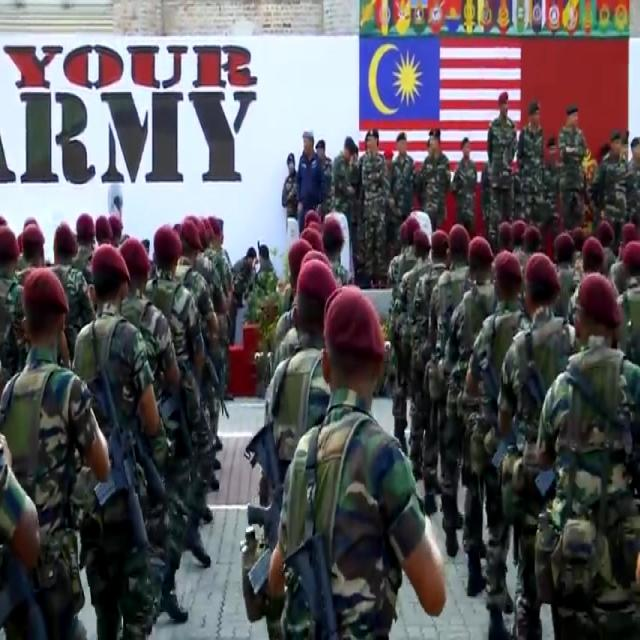m16: (80, 350, 188, 587)
